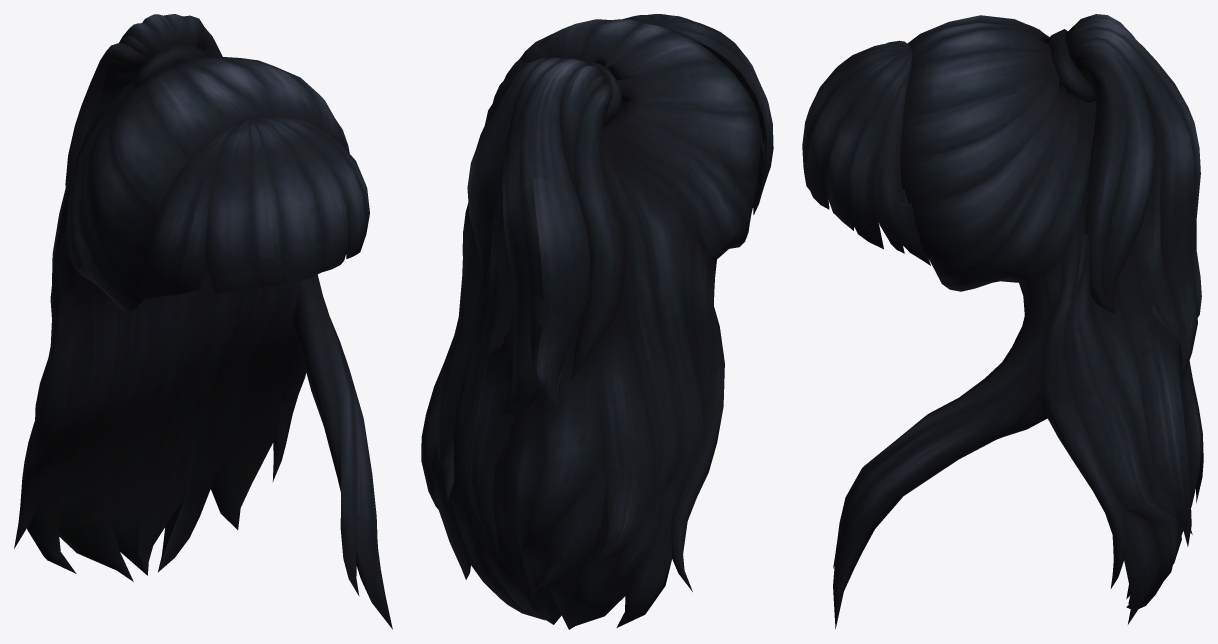
File: hair7.glb
3 renders of one model, left to right at view 1: azimuth 30°, elevation 25°; view 2: azimuth 150°, elevation 25°; view 3: azimuth 270°, elevation 25°, orthographic. The views are drawn at different scales.
Visible parts, largest first — view 1: s4studio_mesh_2, s4studio_mesh_1, s4studio_mesh_3; view 2: s4studio_mesh_2, s4studio_mesh_1, s4studio_mesh_3; view 3: s4studio_mesh_2, s4studio_mesh_1, s4studio_mesh_3.
Part boxes in pixels (x1,y1,x2,y2): s4studio_mesh_2: (23, 14, 383, 588); s4studio_mesh_1: (14, 225, 392, 629); s4studio_mesh_3: (50, 237, 371, 526); s4studio_mesh_2: (421, 14, 773, 629); s4studio_mesh_1: (448, 142, 764, 624); s4studio_mesh_3: (459, 128, 763, 583); s4studio_mesh_2: (802, 14, 1203, 628); s4studio_mesh_1: (826, 189, 1203, 628); s4studio_mesh_3: (826, 189, 1182, 509).
Bounding box in the file's own units: 0.1825 × 0.3523 × 0.2189.
Materials: 1 (1 with a texture image).
